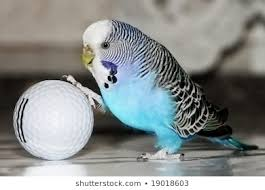budgie: (75, 19, 253, 163)
